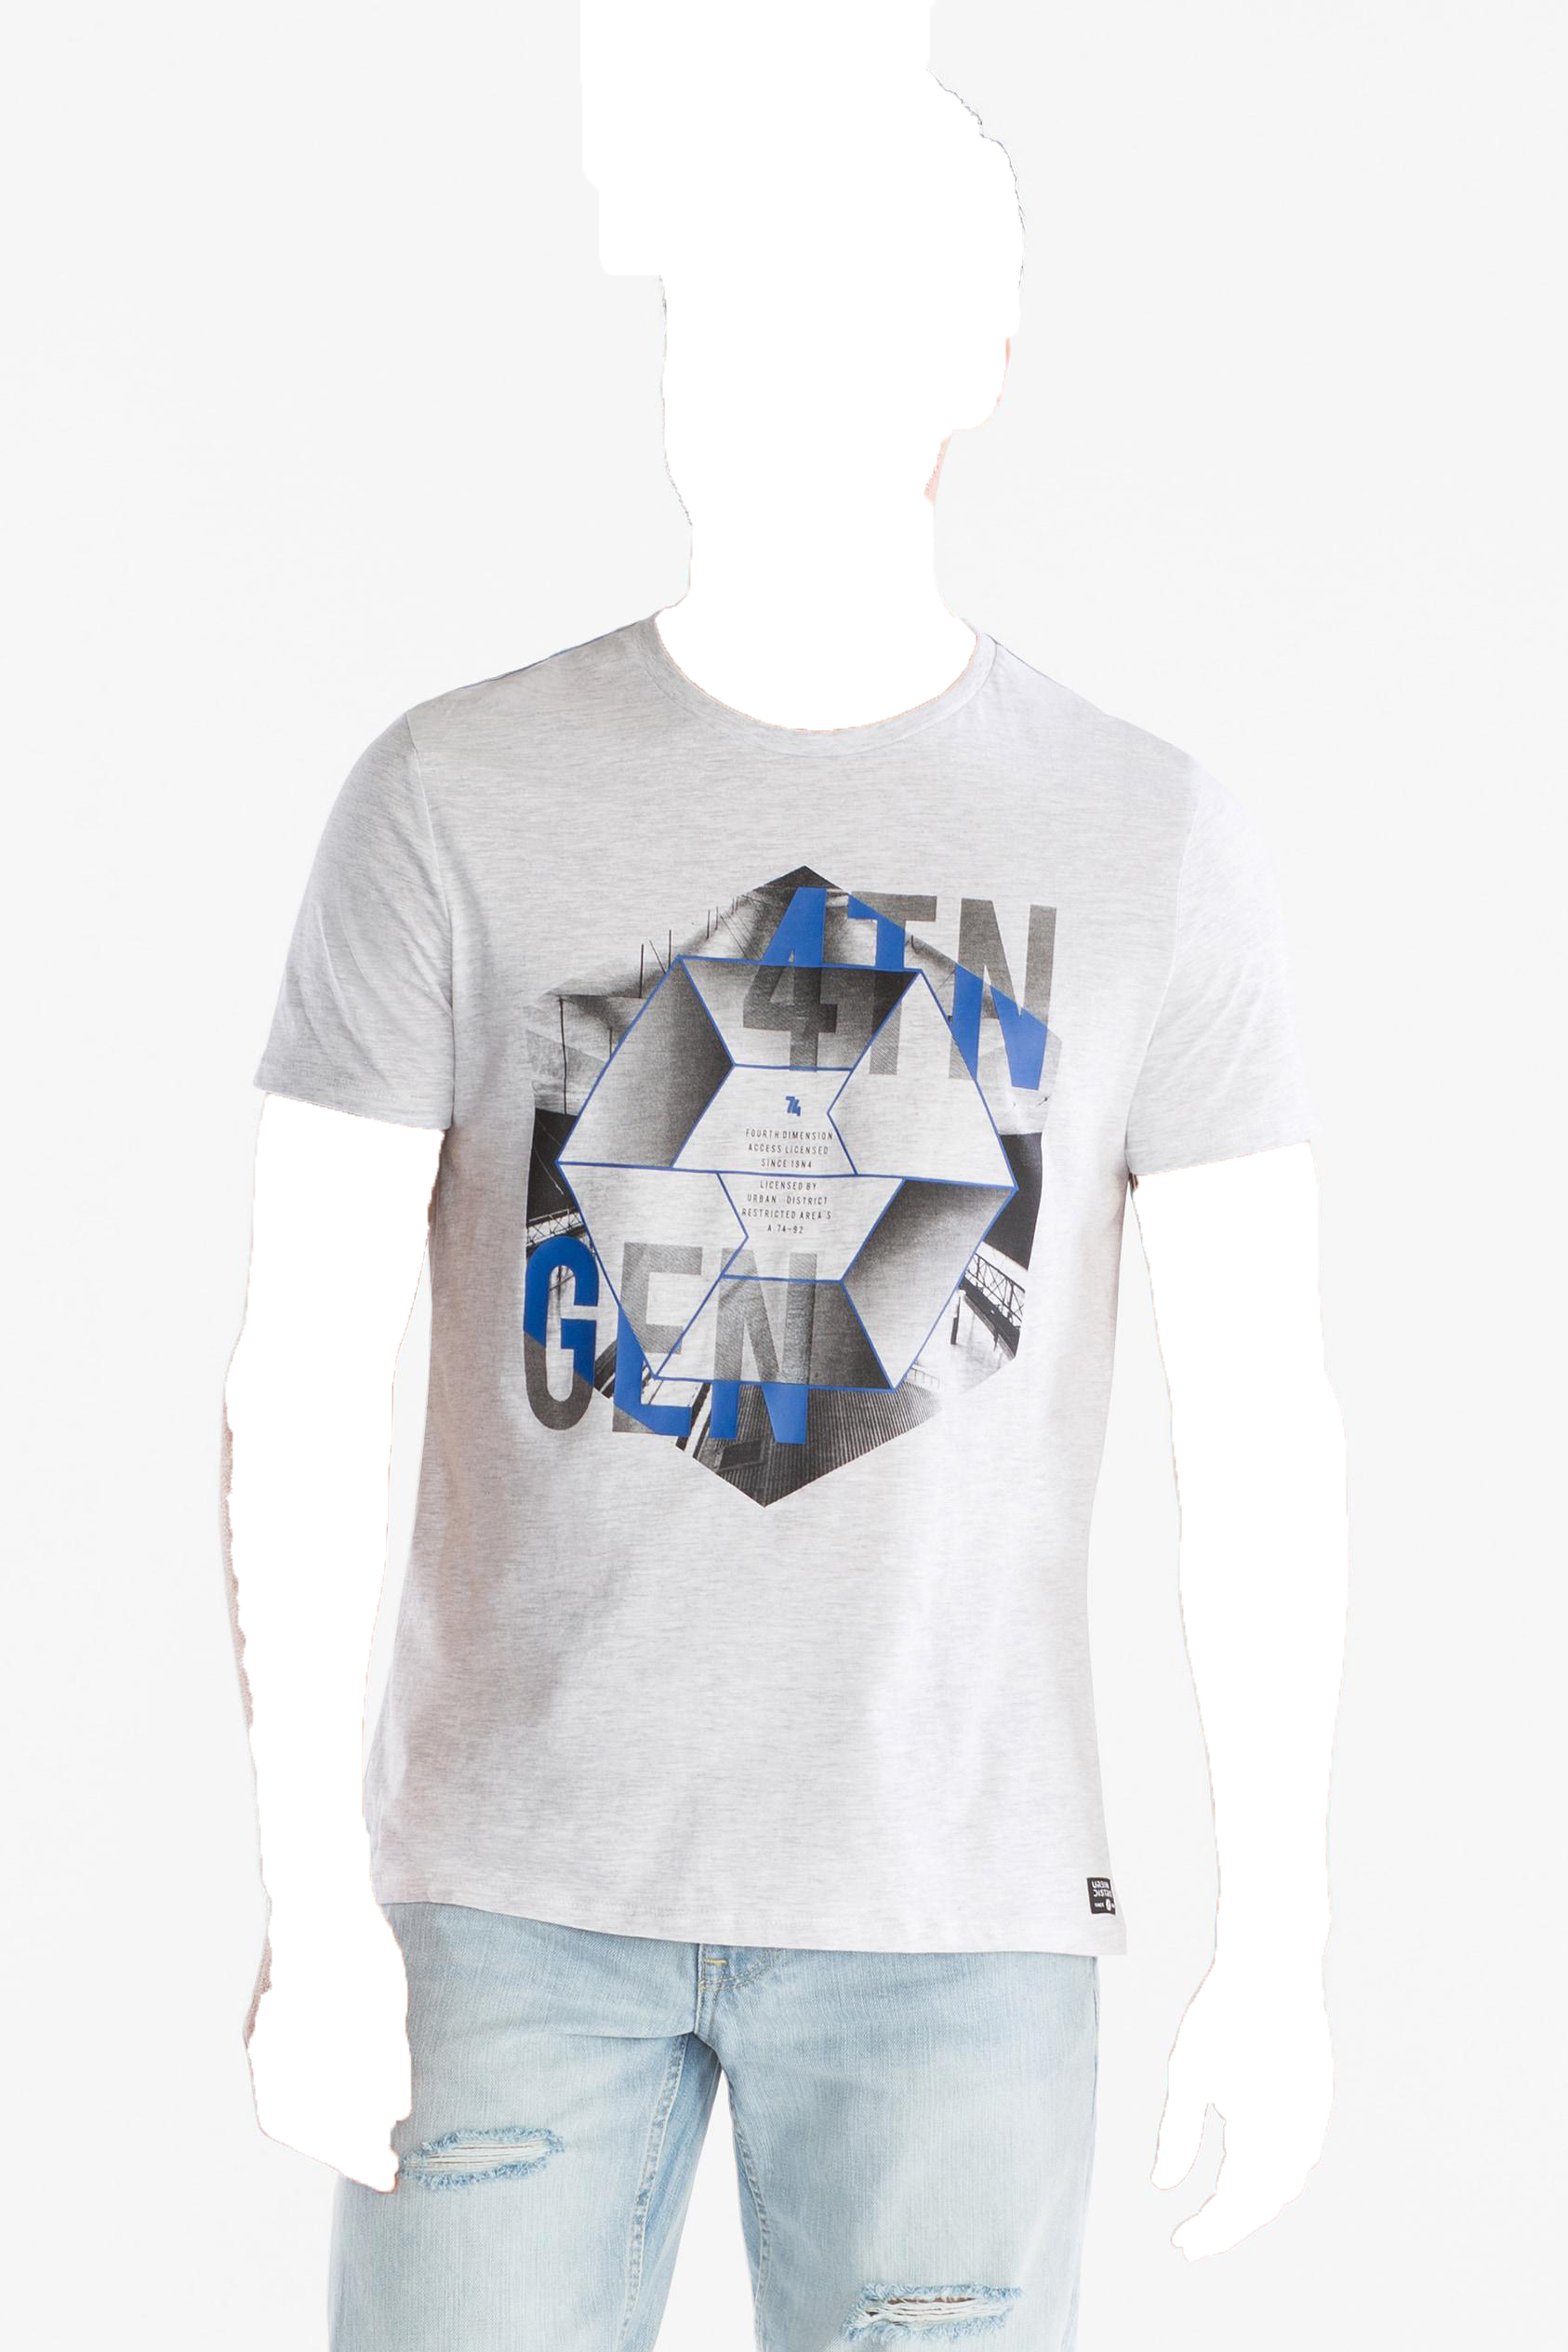teeshirt: (245, 611, 1325, 1957)
